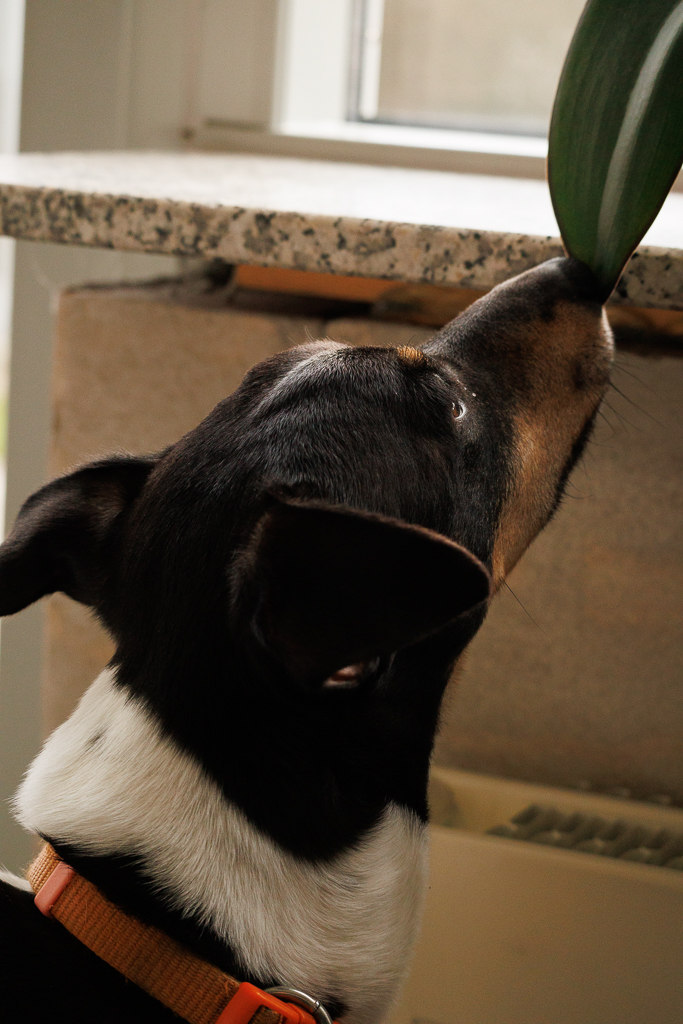Dog: (0, 242, 683, 1024)
